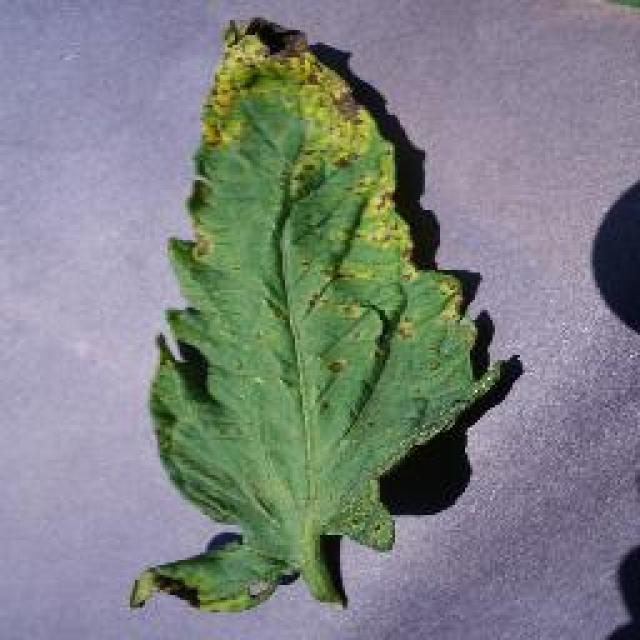Tomato___Septoria_leaf_spot: (130, 18, 508, 610)
